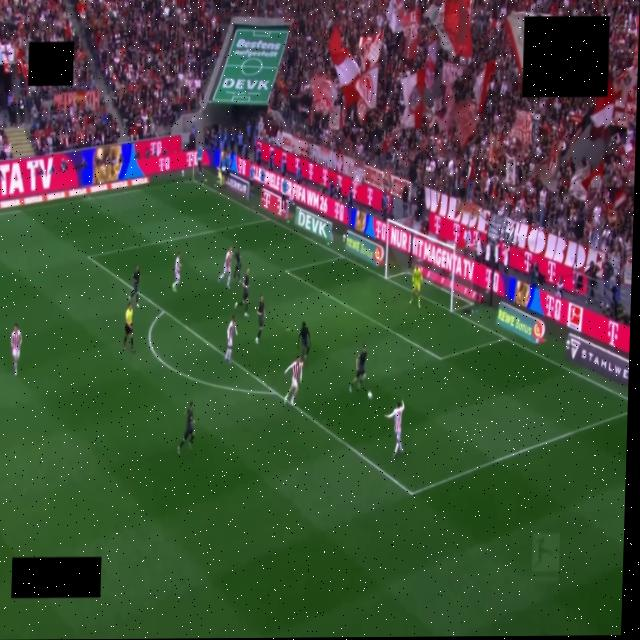ball: (367, 391, 372, 399)
player: (386, 401, 404, 458), (178, 401, 194, 454), (284, 358, 302, 405), (349, 345, 367, 391), (235, 269, 249, 317), (219, 247, 233, 288), (225, 315, 237, 362), (11, 324, 22, 375), (410, 264, 422, 308), (298, 322, 310, 362), (256, 295, 265, 343), (130, 265, 140, 307), (172, 252, 182, 292), (234, 247, 241, 279)
referee: (124, 303, 135, 352)
